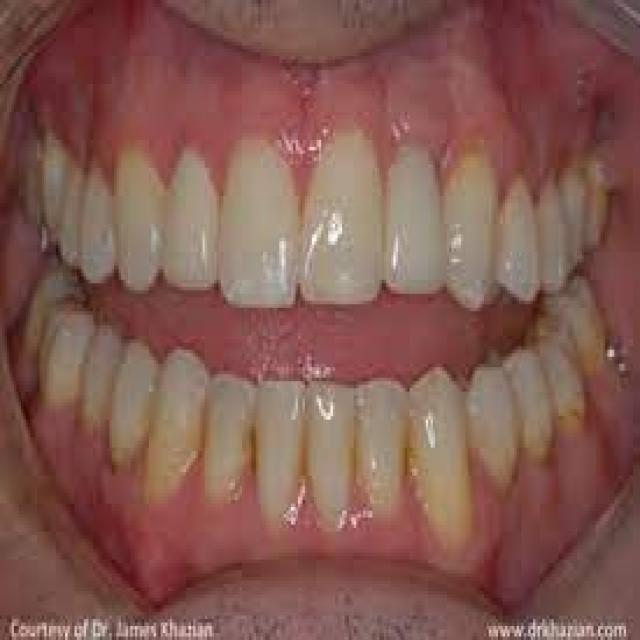tooth: (303, 140, 384, 318), (221, 140, 298, 308), (414, 367, 484, 542), (144, 346, 221, 504), (442, 150, 500, 326), (387, 147, 442, 322), (305, 370, 361, 532), (254, 367, 305, 535), (168, 140, 221, 287), (363, 367, 417, 511), (79, 308, 137, 440), (496, 172, 544, 318), (572, 269, 622, 409), (470, 363, 526, 482), (540, 308, 591, 430), (119, 154, 163, 283), (210, 367, 247, 511), (517, 332, 554, 465), (77, 164, 116, 287), (40, 304, 90, 395), (531, 178, 570, 287), (114, 349, 149, 468), (16, 262, 63, 350), (32, 123, 68, 235), (578, 161, 614, 262), (558, 171, 589, 266), (60, 154, 82, 276)
